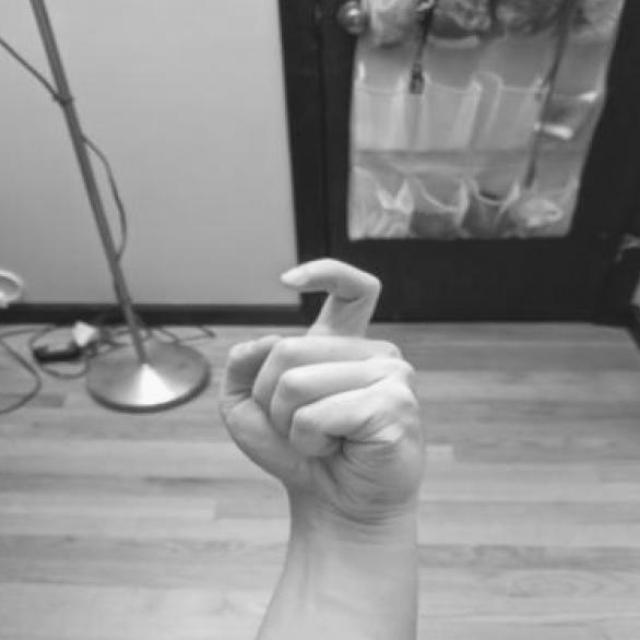X: (210, 243, 449, 581)
